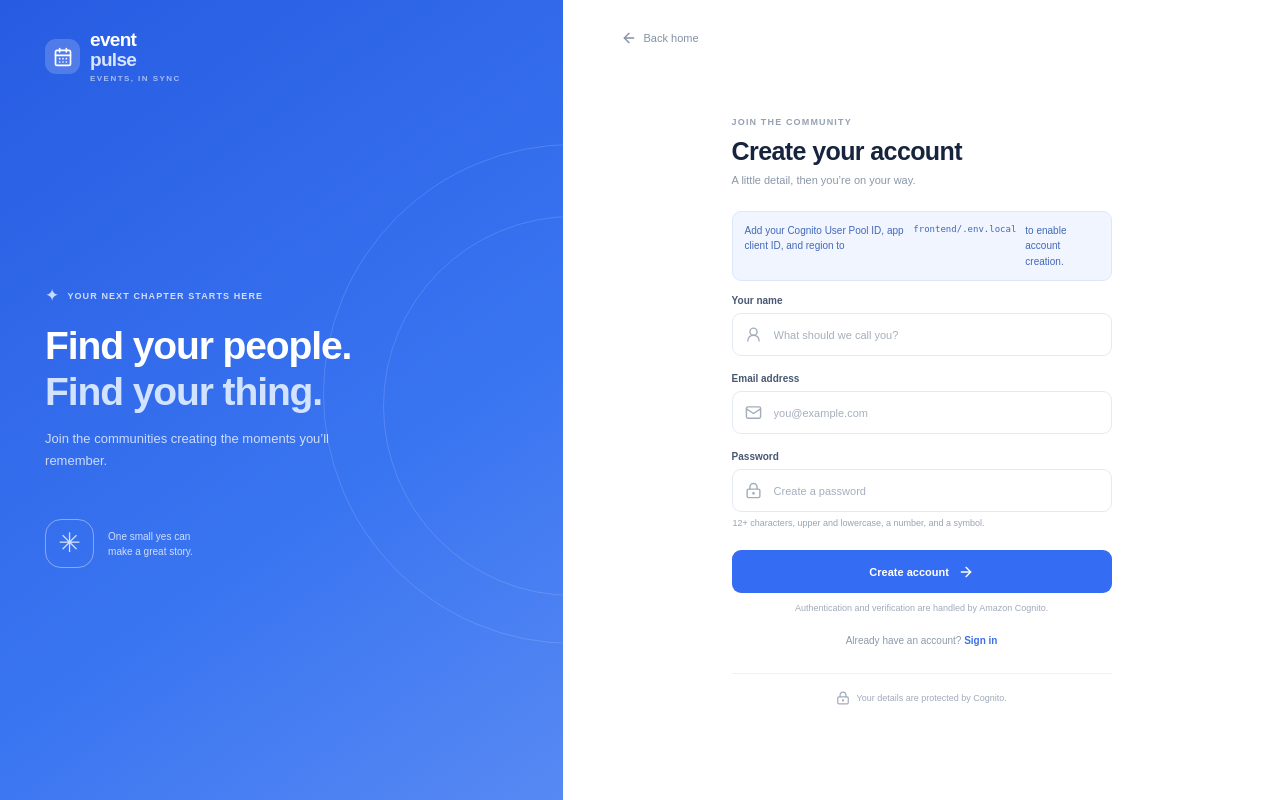
Scenario: authentication form validation › validates name, email, and Cognito password policy on signup
This screenshot has width=1280, height=800.
Type "bad-email" into the field labelled "Email address". click: [935, 413]
box: [772,406,1099,420]
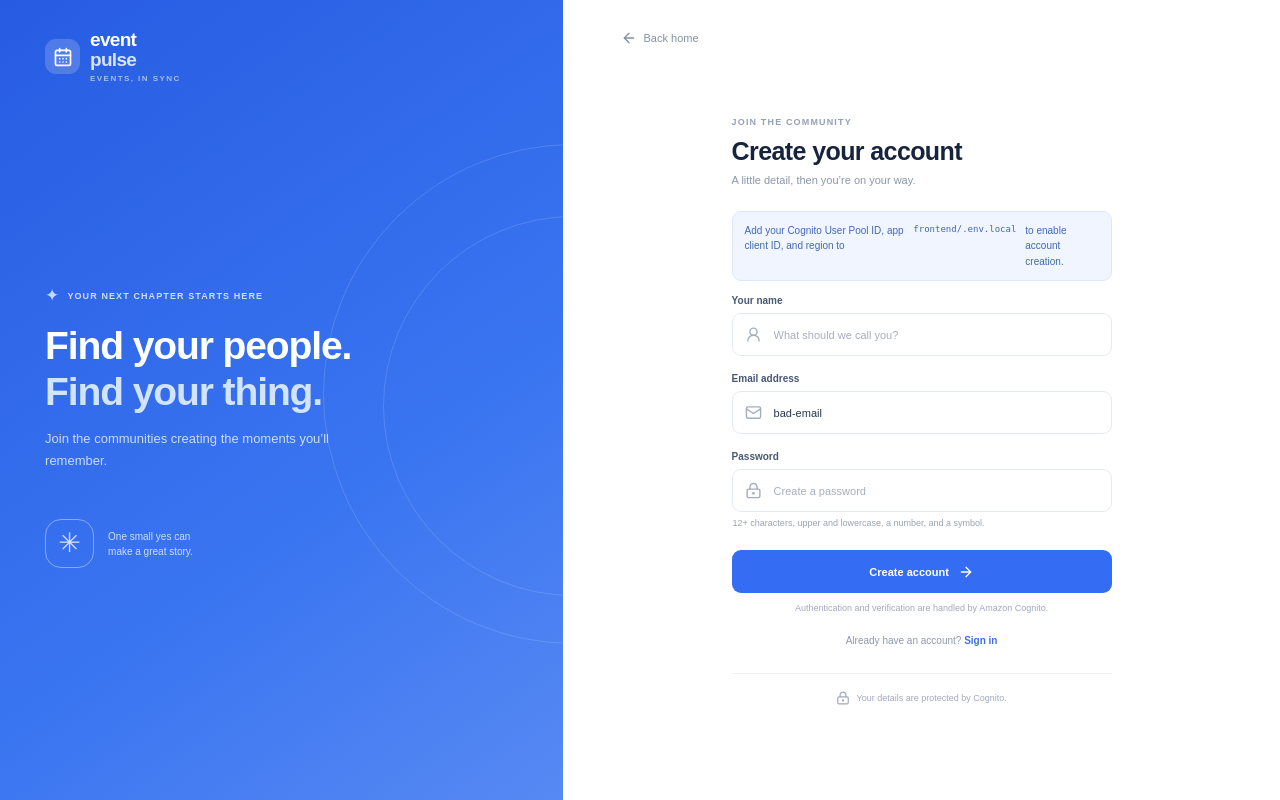
Type "short" into the password field labelled "Password". click: [935, 491]
box: [772,484,1099,498]
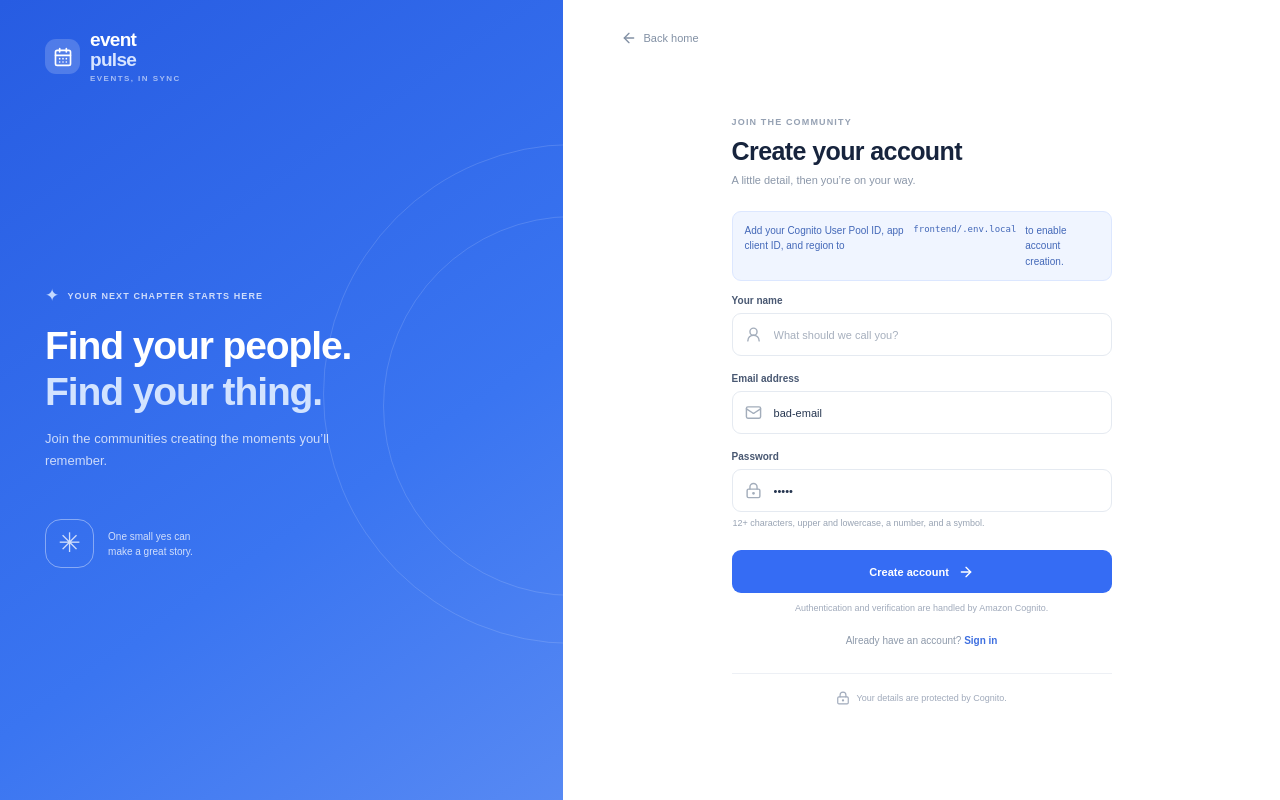
Submit the form named "create account", box [732,295,1112,593]
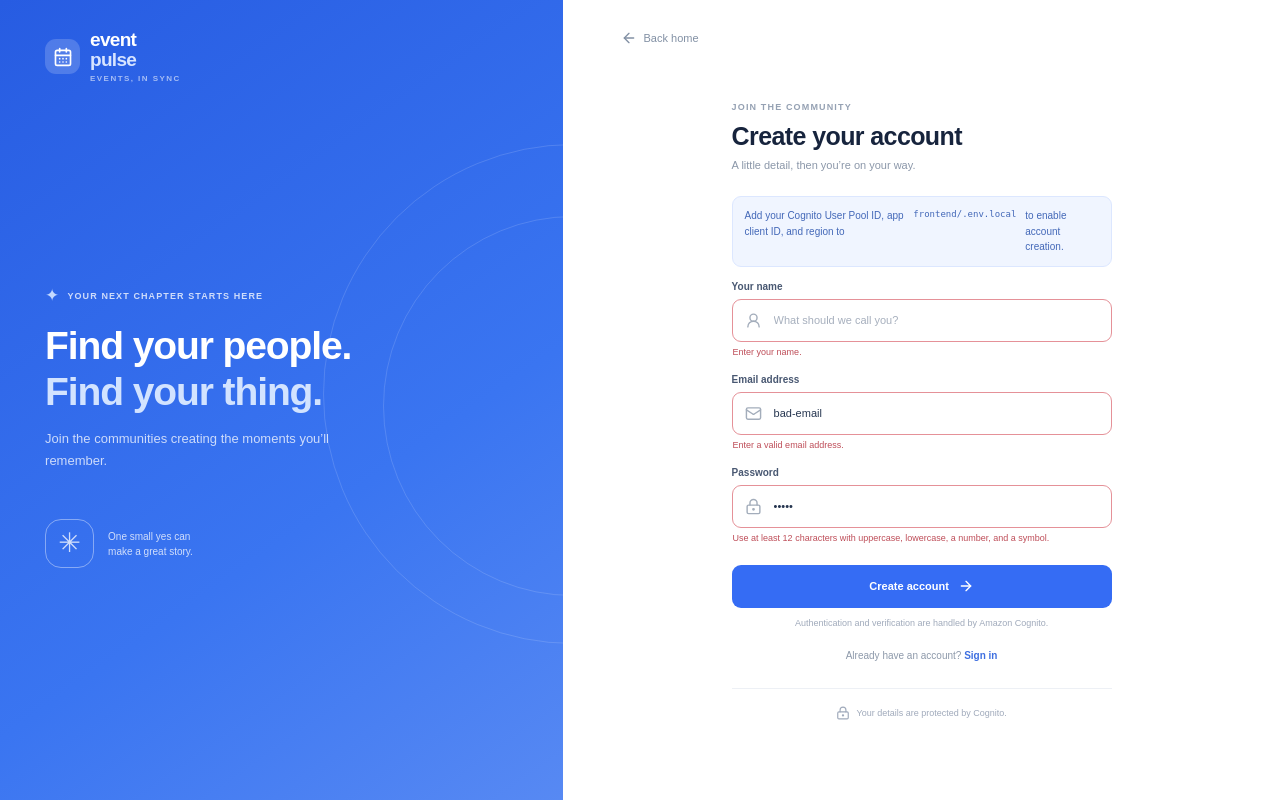
Expected: the text "Enter your name." is shown, [733,347,802,357]
Expected: the text "Enter a valid email address." is shown, [733,440,844,450]
Expected: the text "Use at least 12 characters" is shown, [733,533,1049,543]
